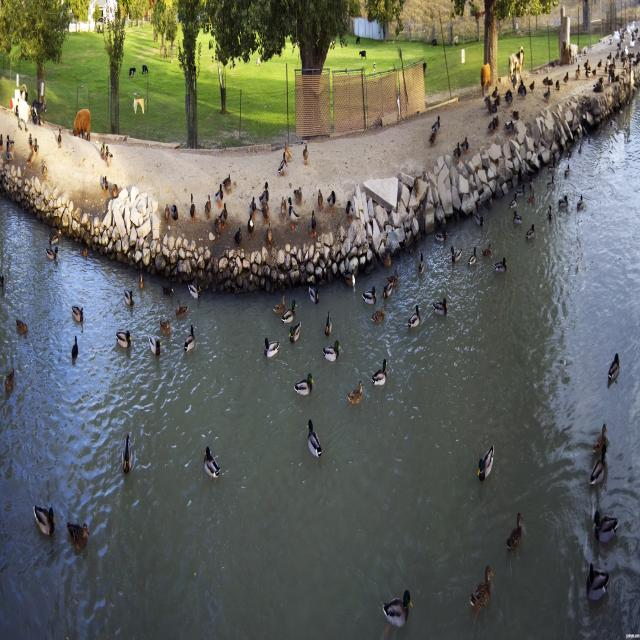bird: (471, 566, 494, 626), (582, 562, 612, 602), (31, 501, 57, 545), (593, 504, 619, 544), (505, 514, 526, 562), (384, 592, 414, 620), (590, 441, 608, 486), (66, 516, 90, 548), (203, 446, 224, 480), (478, 450, 497, 485), (606, 353, 623, 392), (347, 380, 368, 410), (115, 330, 134, 358), (404, 305, 422, 334), (148, 338, 166, 367), (294, 372, 316, 394), (307, 418, 321, 452), (122, 436, 134, 475), (262, 339, 282, 362), (183, 328, 198, 358), (428, 118, 442, 150), (386, 272, 400, 304), (278, 148, 292, 178), (218, 175, 234, 201), (319, 312, 335, 338), (286, 324, 304, 347), (372, 361, 388, 386), (324, 343, 344, 363), (246, 198, 260, 226), (47, 222, 62, 248), (287, 198, 300, 228), (67, 337, 80, 365), (157, 318, 173, 340), (70, 306, 86, 328), (122, 289, 136, 314), (283, 302, 300, 322), (468, 246, 481, 272), (413, 255, 427, 279), (15, 317, 29, 341), (174, 302, 189, 324), (372, 305, 387, 326), (44, 247, 59, 267), (291, 188, 305, 209), (434, 297, 448, 318), (592, 423, 606, 443), (450, 247, 462, 270), (271, 299, 286, 316), (486, 114, 498, 134), (361, 289, 376, 304), (433, 229, 448, 244), (493, 255, 506, 272), (575, 197, 587, 215), (212, 217, 222, 238), (220, 202, 228, 228), (310, 208, 318, 233), (555, 196, 568, 211), (481, 241, 491, 260), (259, 184, 269, 203), (104, 144, 113, 165), (188, 191, 195, 218), (475, 208, 484, 229), (343, 275, 356, 289), (302, 147, 311, 167), (309, 286, 319, 304), (267, 225, 274, 248), (525, 224, 535, 240), (101, 172, 108, 194), (326, 189, 334, 207), (345, 201, 354, 217), (546, 176, 556, 190), (215, 188, 223, 205), (514, 211, 522, 228), (453, 141, 461, 157), (510, 108, 519, 122), (577, 142, 582, 166), (316, 187, 322, 206), (56, 128, 63, 144), (461, 137, 468, 153), (100, 138, 106, 156), (233, 226, 240, 241), (171, 202, 177, 219), (204, 193, 209, 213), (280, 199, 286, 214), (163, 201, 169, 215), (518, 78, 524, 92), (530, 78, 535, 94), (544, 86, 550, 98), (507, 197, 516, 205), (514, 185, 523, 193), (29, 136, 34, 150), (505, 91, 511, 102), (548, 203, 552, 219), (113, 186, 118, 198), (484, 96, 489, 106), (529, 193, 534, 203), (493, 86, 497, 98), (554, 80, 558, 92), (564, 164, 568, 176), (563, 72, 567, 79)
